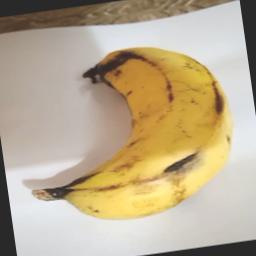Banana Unripe: (7, 33, 248, 233)
